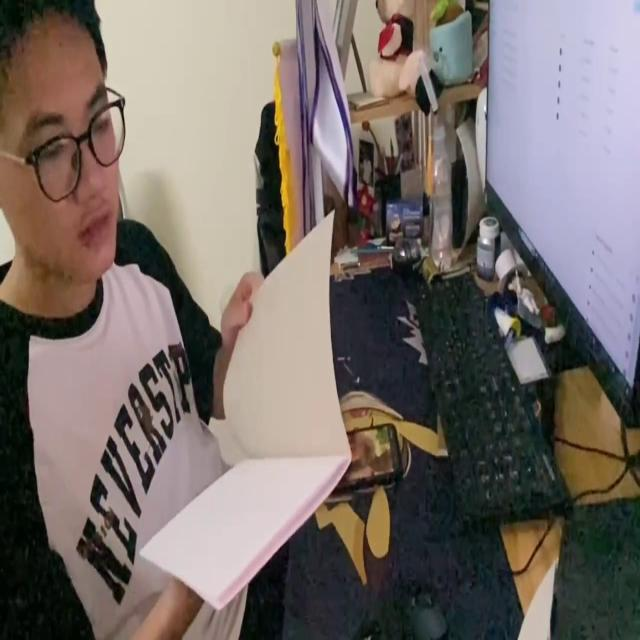book: (136, 198, 352, 611)
laptop: (482, 0, 640, 433)
student: (0, 1, 269, 640)
